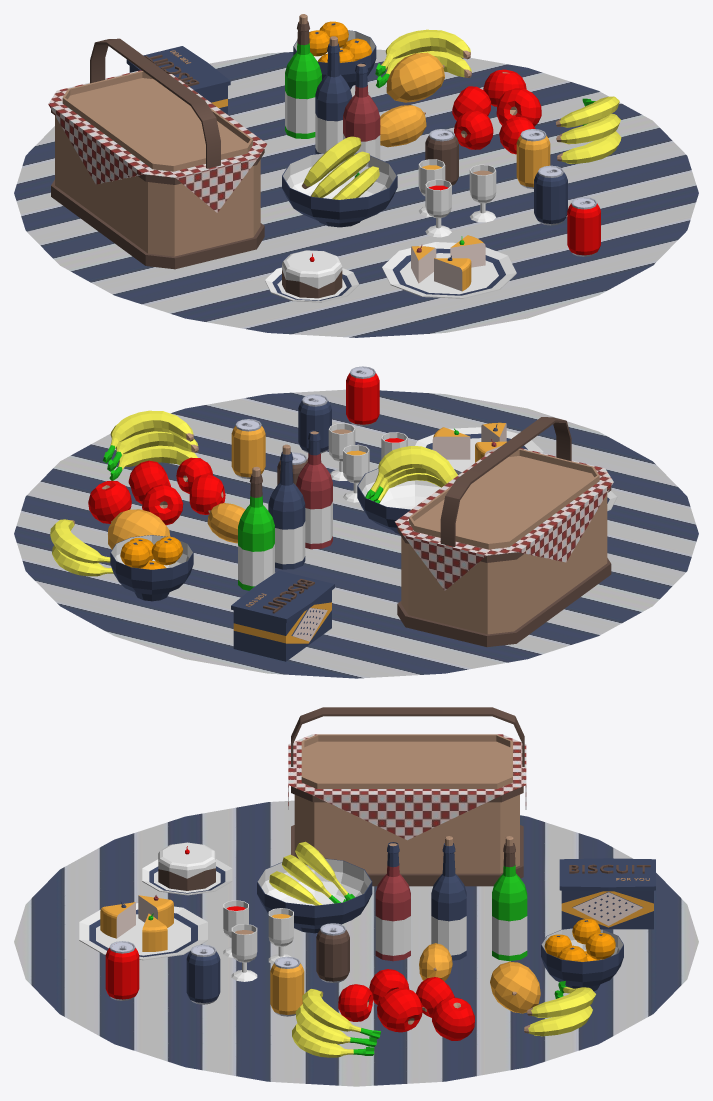
The model's file is furn_mat.glb.
3 renders of one model, top to bottom at view 1: azimuth 30°, elevation 25°; view 2: azimuth 150°, elevation 25°; view 3: azimuth 270°, elevation 25°, orthographic.
Parts seen in each view (by area): view 1: Object_1, Object_0, Object_2, Object_15; view 2: Object_1, Object_0, Object_2, Object_15; view 3: Object_1, Object_0, Object_2, Object_15.
Part boxes in pixels (<box>): Object_1: <box>51,14,621,302</box>; Object_0: <box>14,49,698,337</box>; Object_2: <box>48,70,266,212</box>; Object_15: <box>431,130,594,207</box>; Object_1: <box>50,366,617,661</box>; Object_0: <box>14,389,698,678</box>; Object_2: <box>395,448,613,590</box>; Object_15: <box>237,368,373,462</box>; Object_1: <box>79,707,655,1057</box>; Object_0: <box>14,800,698,1086</box>; Object_2: <box>288,734,526,840</box>; Object_15: <box>111,924,343,966</box>.
Bounding box in the file's own units: 144 × 33.91 × 144.
Materials: 4 (4 with a texture image).
